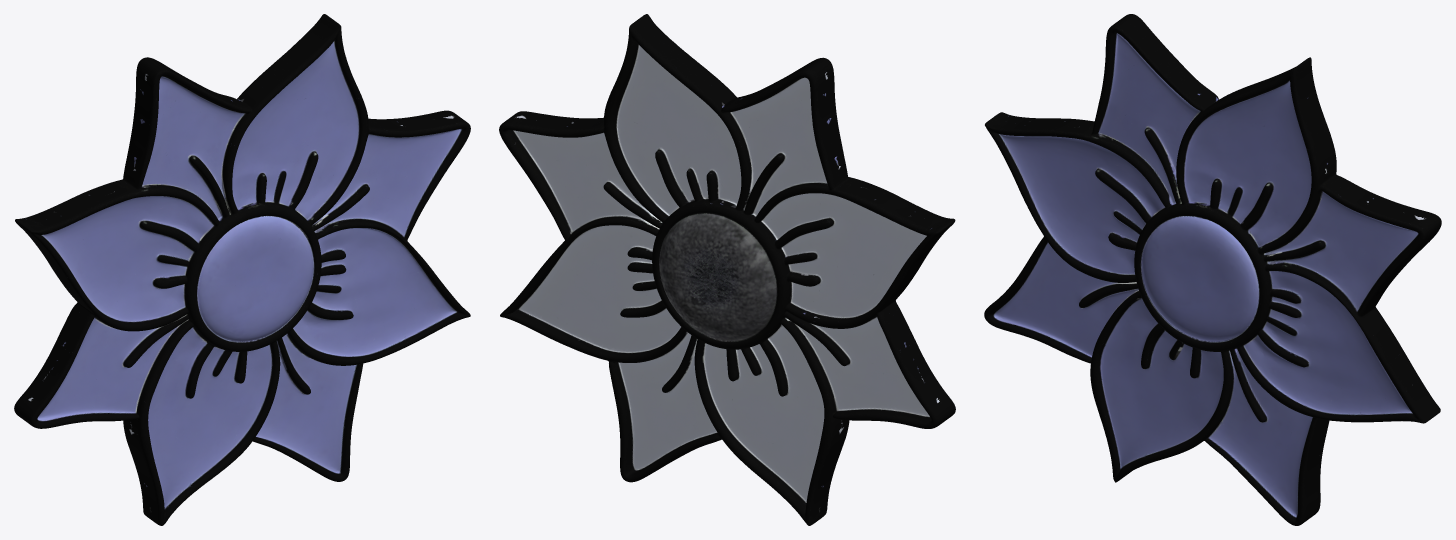
File: sketch2life-test.glb
3 views of the same model, side by side, from view 1: azimuth 30°, elevation 25°; view 2: azimuth 150°, elevation 25°; view 3: azimuth 330°, elevation 25° (orthographic).
Bounding box in the file's own units: 1.9 × 1.88 × 0.2332.
Materials: 1 (1 with a texture image).
